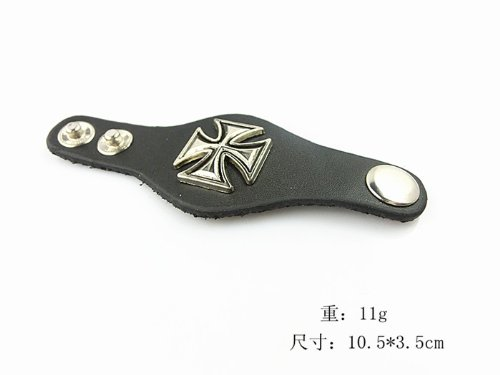10.: (350, 336, 370, 349)
